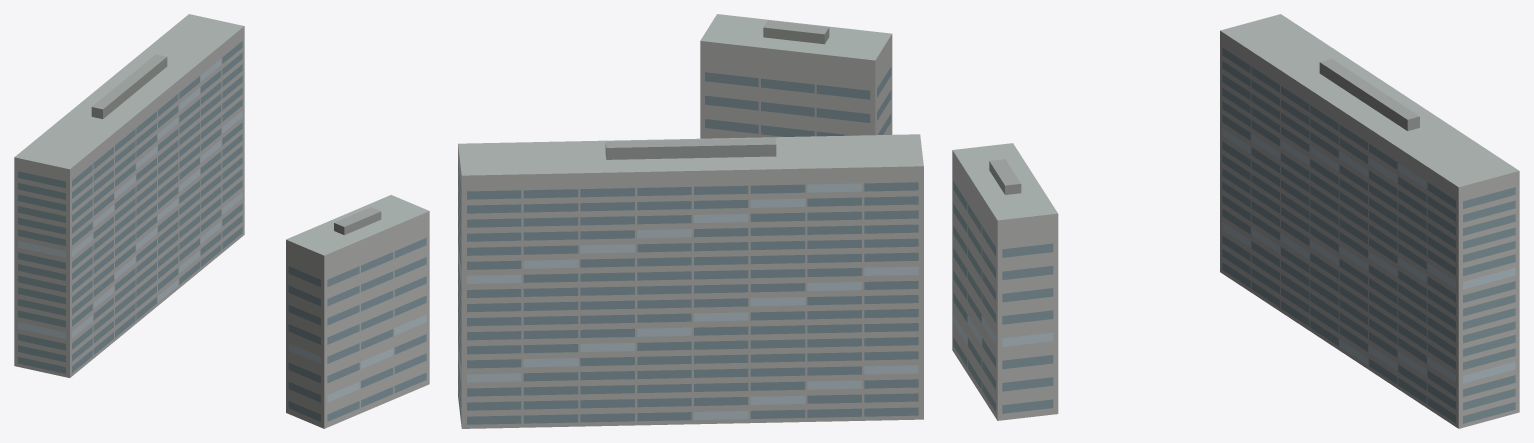
File: apt-a10024702.glb
3 views of the same model, side by side, from view 1: azimuth 30°, elevation 25°; view 2: azimuth 150°, elevation 25°; view 3: azimuth 270°, elevation 25° (orthographic). The views are drawn at different scales.
Parts seen in each view (by area): view 1: apt-a10024702; view 2: apt-a10024702; view 3: apt-a10024702.
Boxes of the visible parts, x1,y1,x2,y2 form: apt-a10024702: (14, 14, 429, 428); apt-a10024702: (458, 14, 923, 428); apt-a10024702: (952, 14, 1519, 428).
Bounding box in the file's own units: 69.08 × 47 × 95.48.
